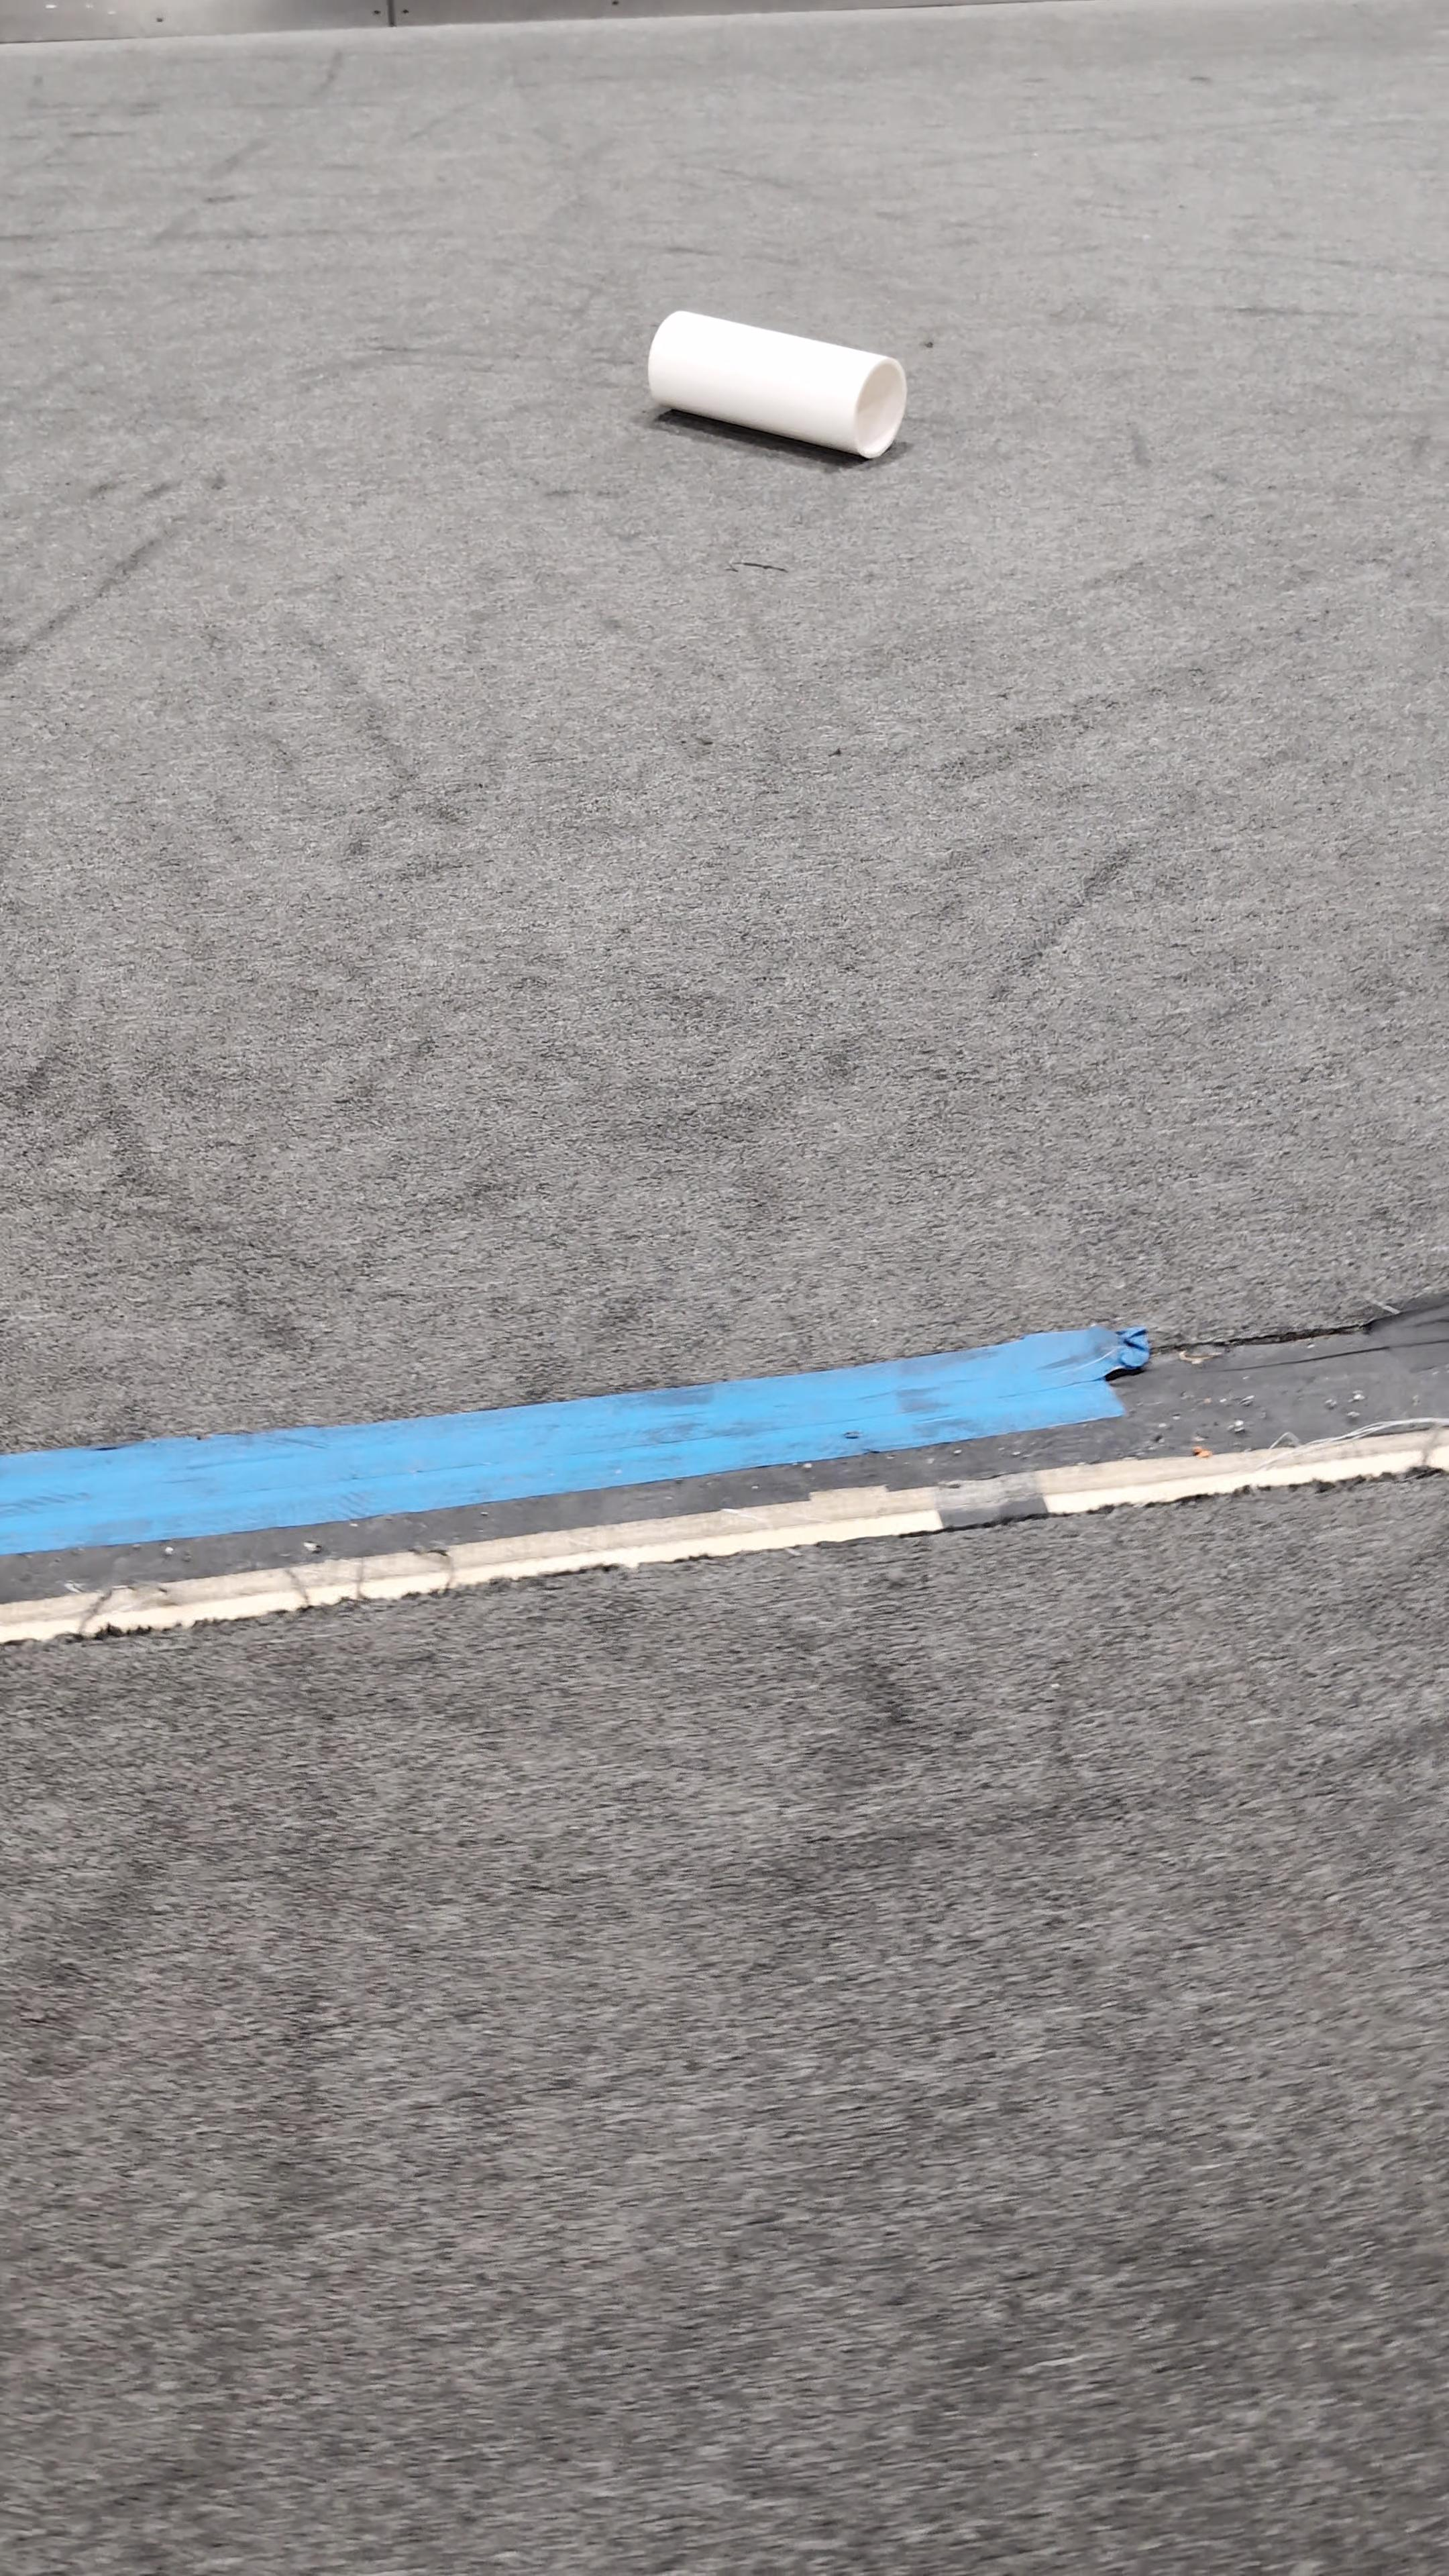coral: (646, 306, 906, 460)
